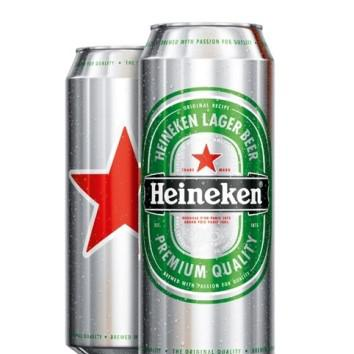beer: (66, 21, 279, 354)
